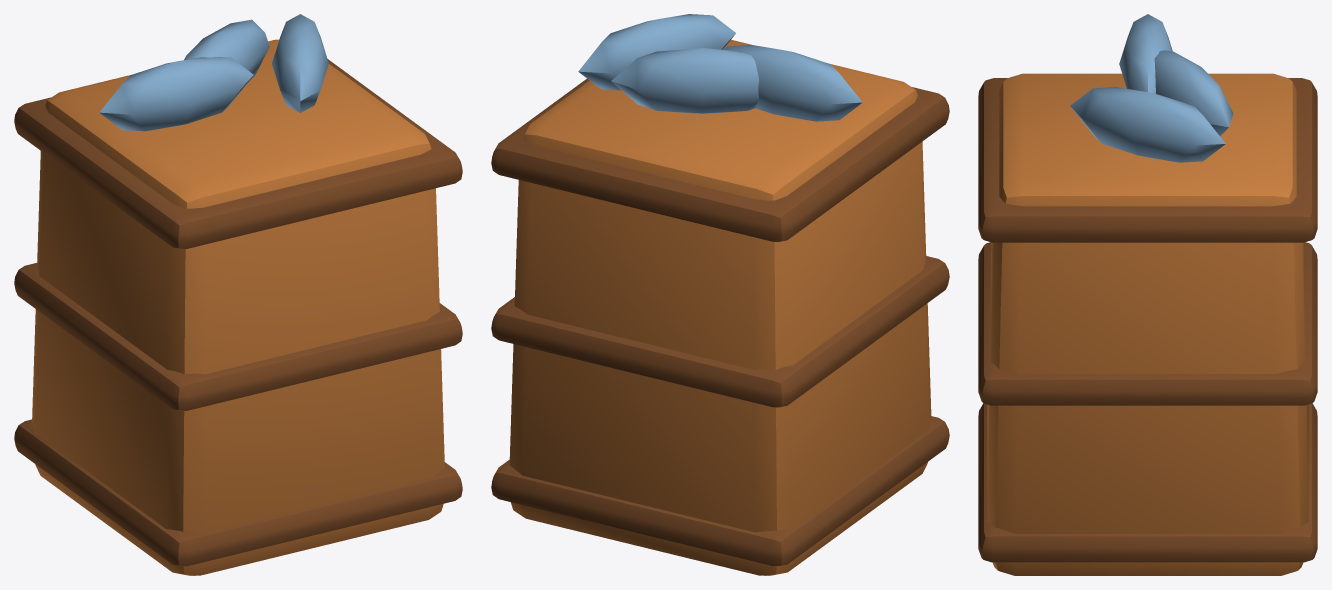
File: W1_Crate_C.fbx
The picture shows the model from 3 angles, left to right: view 1: azimuth 30°, elevation 25°; view 2: azimuth 150°, elevation 25°; view 3: azimuth 270°, elevation 25°; orthographic projection. The views are drawn at different scales.
Visible parts, largest first — view 1: W1_Crate_C; view 2: W1_Crate_C; view 3: W1_Crate_C.
Boxes of the visible parts, bbox=[...] form: W1_Crate_C: bbox=[14, 14, 462, 575]; W1_Crate_C: bbox=[491, 14, 949, 575]; W1_Crate_C: bbox=[978, 14, 1317, 575].
Bounding box in the file's own units: 0.9424 × 1.4 × 0.9424.
